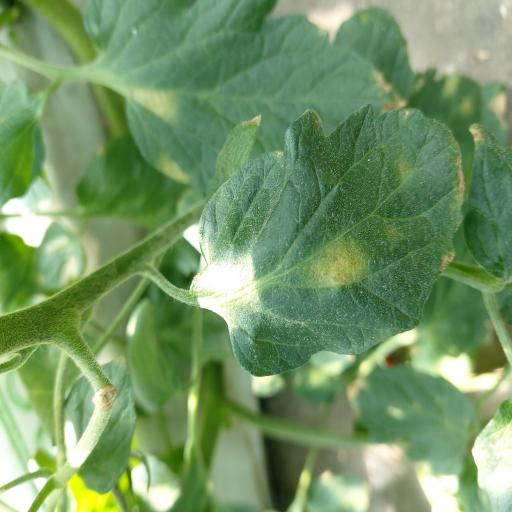Leaf Mold: (198, 106, 466, 384), (83, 0, 410, 185)
